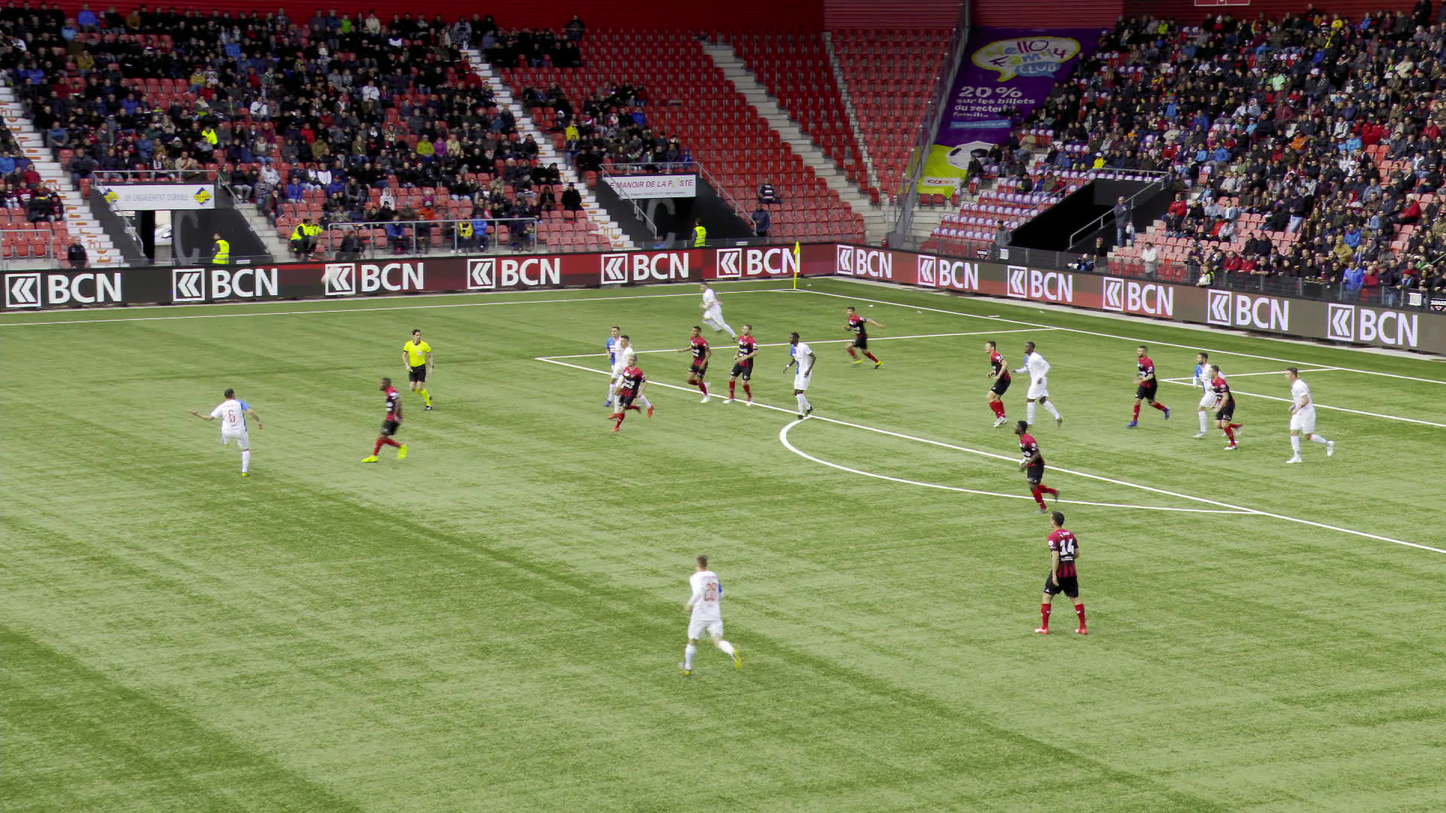ball: (322, 264, 338, 282)
player: (683, 559, 738, 681), (189, 388, 264, 477), (1036, 512, 1084, 635), (1011, 343, 1064, 430), (1283, 369, 1331, 464), (1011, 419, 1057, 512), (609, 336, 652, 422), (1188, 352, 1228, 440), (372, 380, 410, 465), (1206, 364, 1243, 451), (838, 306, 889, 369), (1128, 348, 1167, 429), (678, 326, 719, 403), (724, 326, 759, 406), (782, 332, 813, 419), (699, 283, 743, 343), (983, 343, 1014, 428), (615, 355, 646, 431), (602, 328, 631, 406)
referee: (401, 327, 436, 411)
